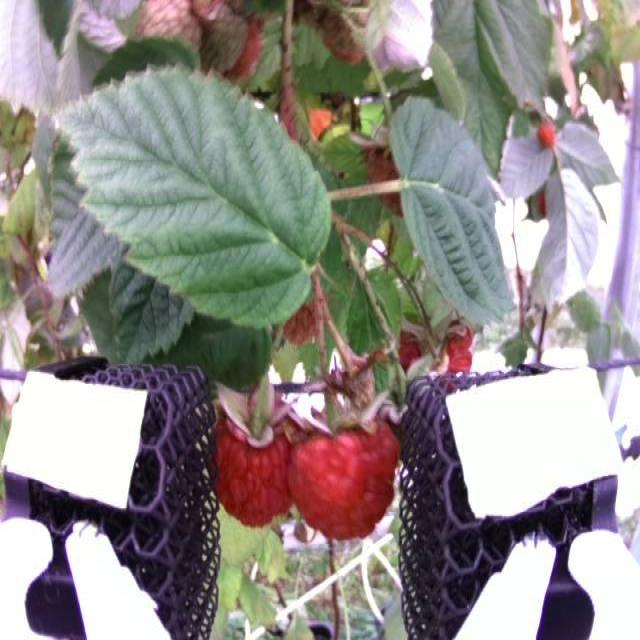Riped berries: (292, 402, 400, 537), (211, 377, 293, 526), (441, 325, 486, 373), (396, 328, 430, 368)
